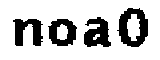0: (118, 4, 150, 50)
a: (83, 18, 112, 51)
n: (8, 16, 44, 51)
o: (47, 18, 78, 49)
